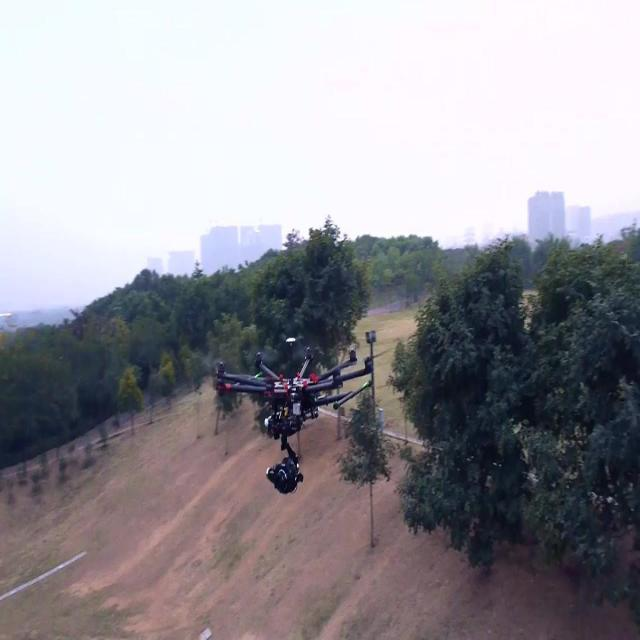UAV: (214, 347, 374, 495)
